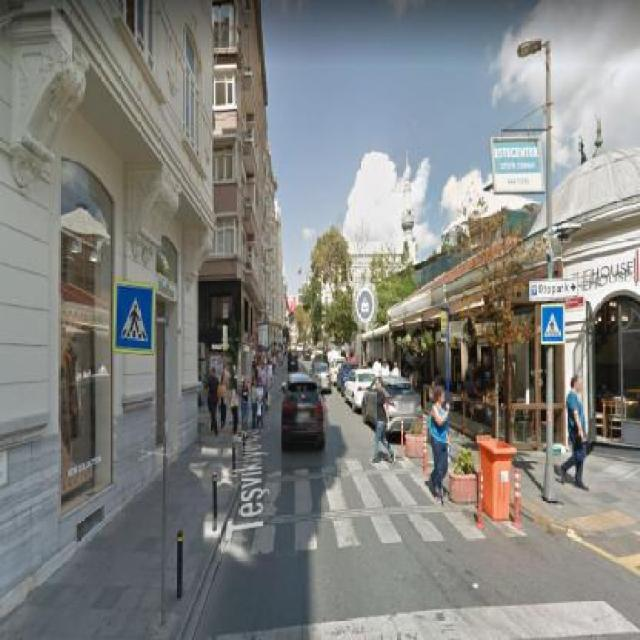yaya: (117, 287, 152, 349), (541, 306, 563, 341)
